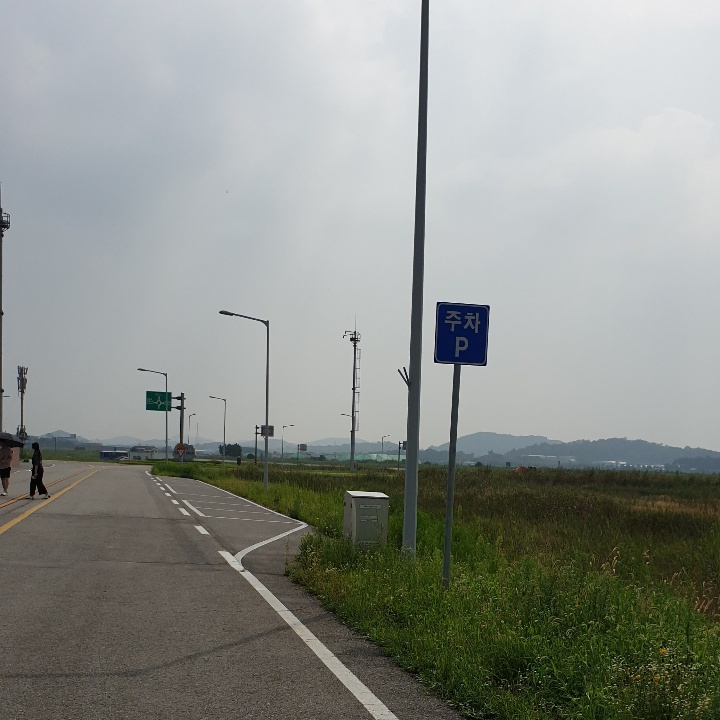parking: (451, 331, 474, 361)
